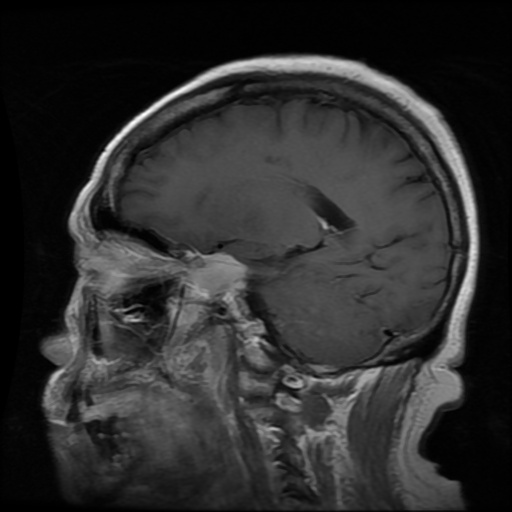meningioma: (187, 253, 248, 296)
